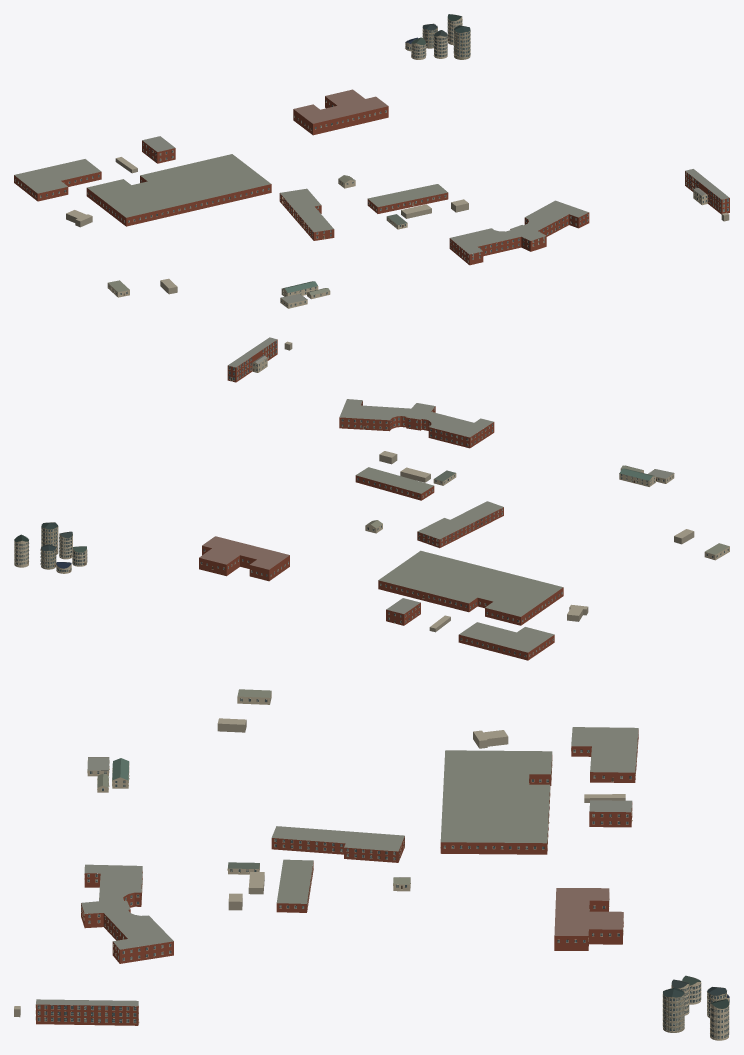
3 renders of one model, top to bottom at view 1: azimuth 30°, elevation 25°; view 2: azimuth 150°, elevation 25°; view 3: azimuth 270°, elevation 25°, orthographic. The views are drawn at different scales.
Visible parts, largest first — view 1: -6_1_271770601_0, -6_1_271770963_3, -6_1_271950656_30; view 2: -6_1_271770601_0, -6_1_271770963_3; view 3: -6_1_271770601_0, -6_1_271770963_3, -6_1_271950656_30.
Part boxes in pixels (bbox=[...]): -6_1_271770601_0: bbox=[14, 14, 729, 308]; -6_1_271770963_3: bbox=[14, 96, 729, 265]; -6_1_271950656_30: bbox=[422, 28, 470, 59]; -6_1_271770601_0: bbox=[14, 337, 729, 657]; -6_1_271770963_3: bbox=[199, 339, 563, 660]; -6_1_271770601_0: bbox=[14, 689, 729, 1040]; -6_1_271770963_3: bbox=[36, 729, 638, 1025]; -6_1_271950656_30: bbox=[663, 991, 726, 1032].
Size of the model in its own units: 470 by 28.68 by 413.
